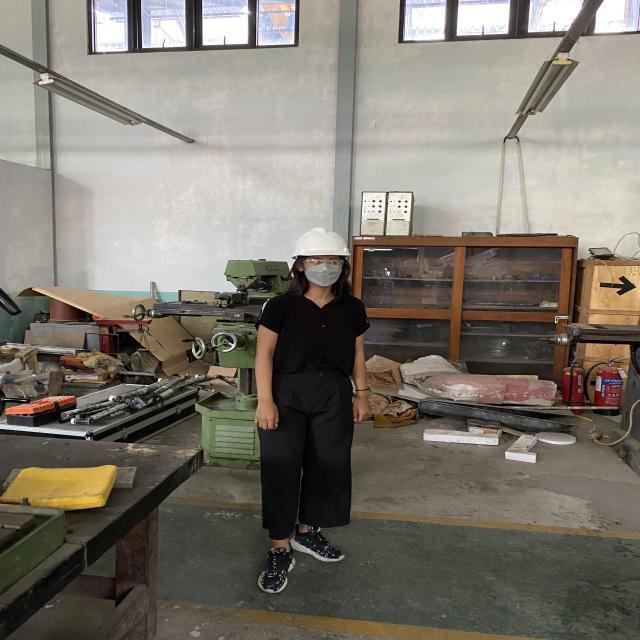glasses: (300, 256, 348, 269)
